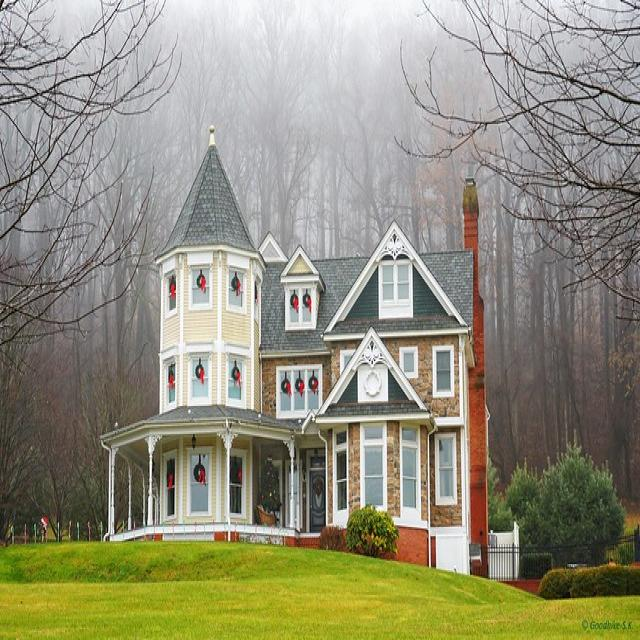building: (96, 141, 522, 590)
